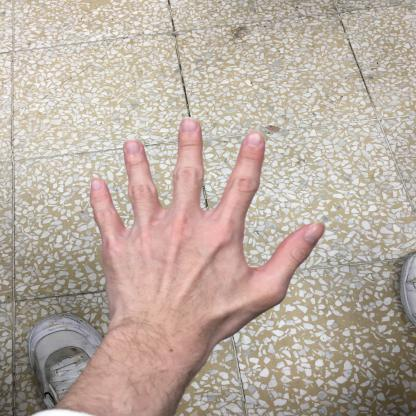bare_hand: (64, 111, 333, 350)
